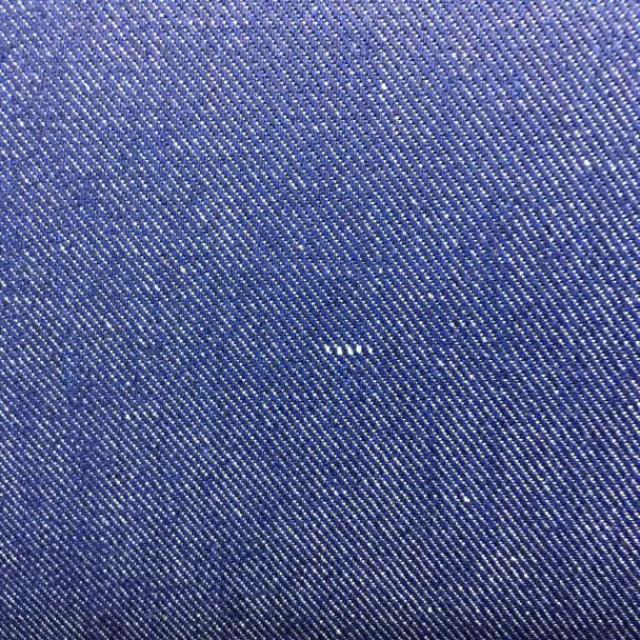Knot: (323, 343, 375, 357)
